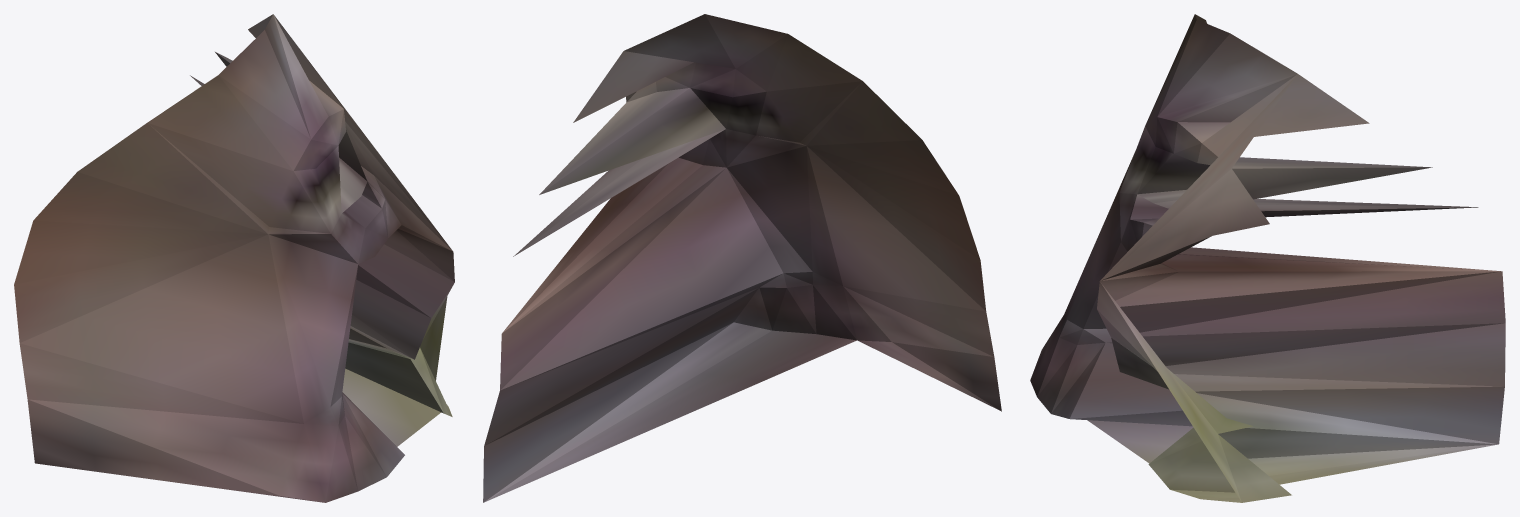
File: real_54576.obj
3 renders of one model, left to right at view 1: azimuth 30°, elevation 25°; view 2: azimuth 150°, elevation 25°; view 3: azimuth 270°, elevation 25°, orthographic. The views are drawn at different scales.
Size of the model in its own units: 109 by 97 by 108.
